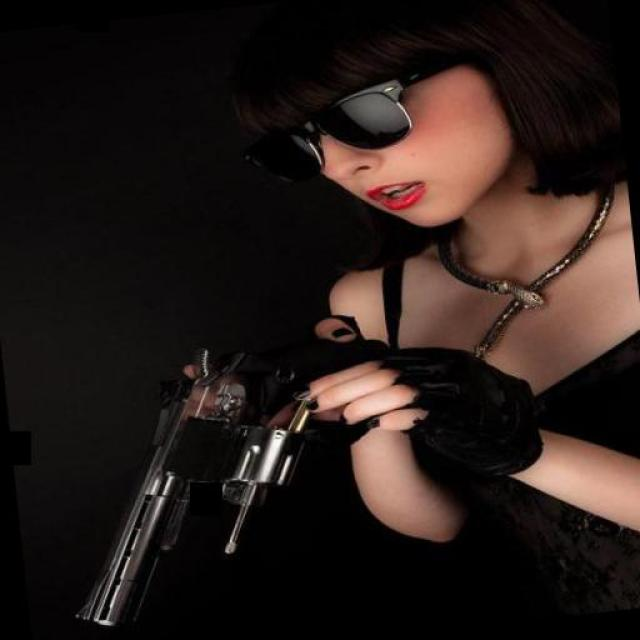gun: (37, 317, 364, 640)
